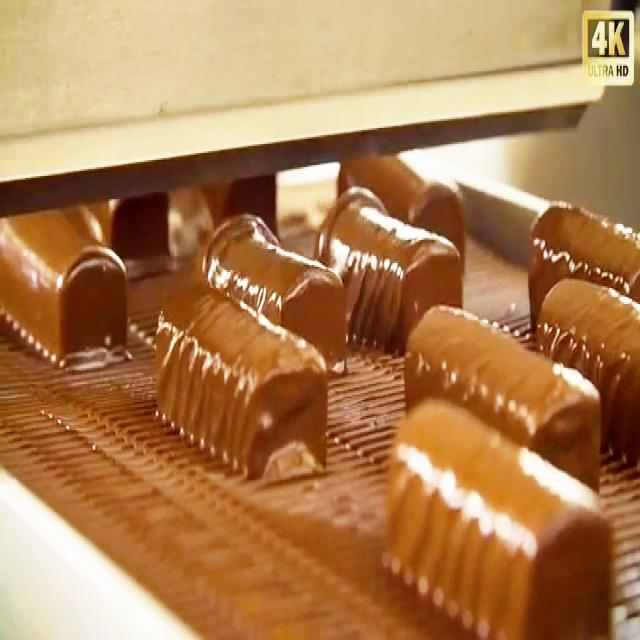Choco: (380, 394, 613, 634), (402, 298, 602, 491), (152, 279, 329, 482), (314, 182, 462, 350), (201, 208, 348, 370), (1, 204, 129, 368), (342, 161, 473, 288), (525, 196, 638, 327)
